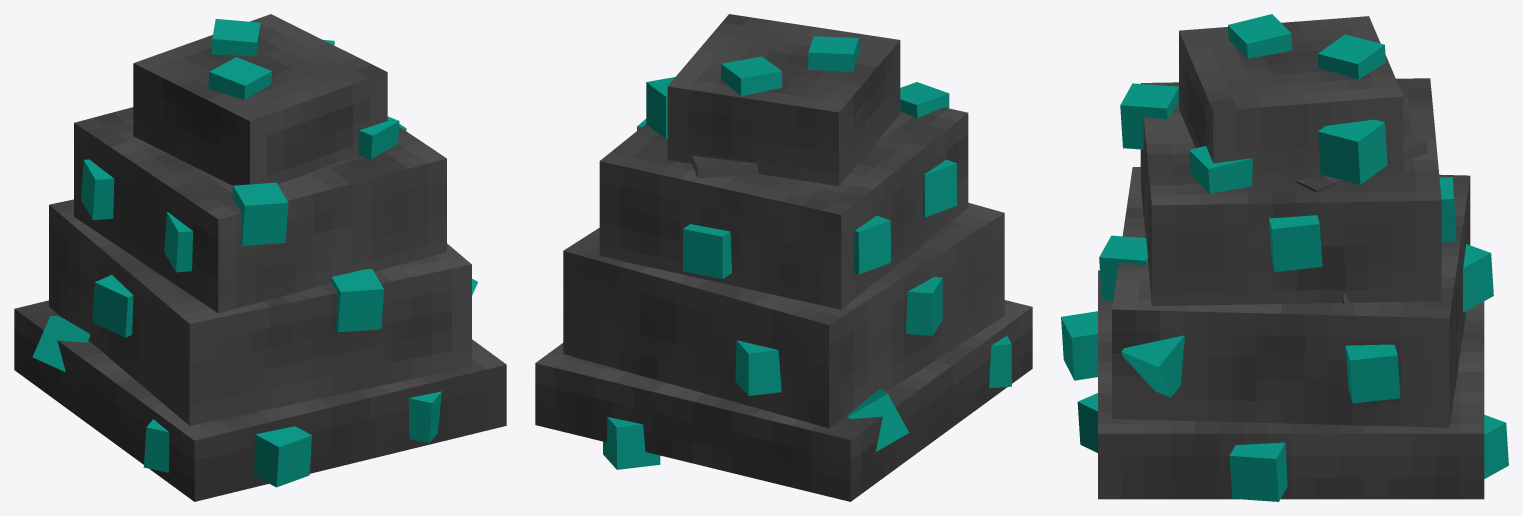
File: ore.fbx
3 renders of one model, left to right at view 1: azimuth 30°, elevation 25°; view 2: azimuth 150°, elevation 25°; view 3: azimuth 270°, elevation 25°, orthographic. The views are drawn at different scales.
Parts seen in each view (by area): view 1: cube_1, cube_2, cube, cube_3, ore_item_5, ore_item_3, ore_item_4, ore_item_22, ore_item_15, ore_item_13, ore_item_18, ore_item_8 (+4 smaller); view 2: cube_1, cube_2, cube, cube_3, ore_item_9, ore_item_10, ore_item_11, ore_item_22, ore_item_13, ore_item_18, ore_item_15, ore_item_8 (+5 smaller); view 3: cube_1, cube_2, cube, cube_3, ore_item_14, ore_item, ore_item_1, ore_item_12, ore_item_2, ore_item_5, ore_item_3, ore_item_13 (+8 smaller).
Part boxes in pixels (x1=…): cube_1: x1=49, y1=199, x2=471, y2=425; cube_2: x1=74, y1=107, x2=446, y2=313; cube: x1=14, y1=300, x2=506, y2=501; cube_3: x1=133, y1=14, x2=387, y2=185; ore_item_5: x1=232, y1=182, x2=288, y2=245; ore_item_3: x1=254, y1=426, x2=311, y2=487; ore_item_4: x1=331, y1=269, x2=383, y2=332; ore_item_22: x1=92, y1=275, x2=133, y2=337; ore_item_15: x1=208, y1=57, x2=272, y2=99; ore_item_13: x1=211, y1=19, x2=260, y2=55; ore_item_18: x1=81, y1=159, x2=114, y2=219; ore_item_8: x1=32, y1=316, x2=90, y2=372; cube_1: x1=563, y1=202, x2=1004, y2=428; cube_2: x1=599, y1=107, x2=968, y2=309; cube: x1=535, y1=300, x2=1032, y2=501; cube_3: x1=667, y1=14, x2=900, y2=185; ore_item_9: x1=683, y1=224, x2=731, y2=278; ore_item_10: x1=735, y1=340, x2=781, y2=395; ore_item_11: x1=603, y1=417, x2=660, y2=469; ore_item_22: x1=906, y1=277, x2=942, y2=335; ore_item_13: x1=721, y1=56, x2=781, y2=96; ore_item_18: x1=853, y1=215, x2=890, y2=274; ore_item_15: x1=808, y1=36, x2=858, y2=71; ore_item_8: x1=847, y1=388, x2=909, y2=451; cube_1: x1=1112, y1=167, x2=1470, y2=427; cube_2: x1=1140, y1=78, x2=1441, y2=306; cube: x1=1098, y1=270, x2=1484, y2=499; cube_3: x1=1179, y1=16, x2=1403, y2=186; ore_item_14: x1=1318, y1=119, x2=1387, y2=184; ore_item: x1=1229, y1=442, x2=1287, y2=501; ore_item_1: x1=1345, y1=344, x2=1400, y2=403; ore_item_12: x1=1269, y1=215, x2=1322, y2=271; ore_item_2: x1=1121, y1=335, x2=1184, y2=397; ore_item_5: x1=1120, y1=83, x2=1178, y2=149; ore_item_3: x1=1061, y1=311, x2=1097, y2=380; ore_item_13: x1=1318, y1=34, x2=1385, y2=79.
Size of the model in its own units: 116 by 111 by 116.
